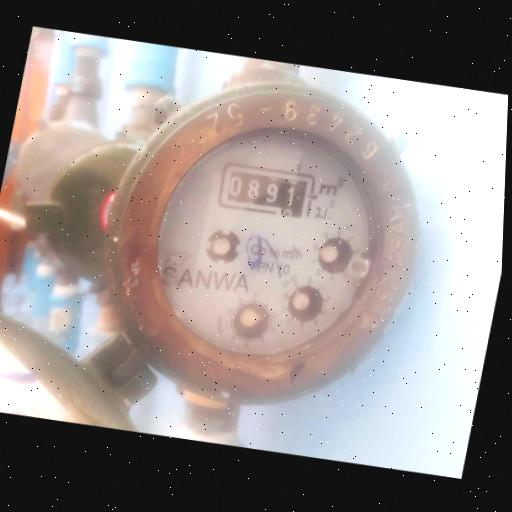0: (225, 170, 247, 203)
1: (276, 177, 309, 218)
8: (242, 173, 264, 205)
9: (258, 175, 283, 208)
border_water_meter_number: (215, 160, 317, 220)
